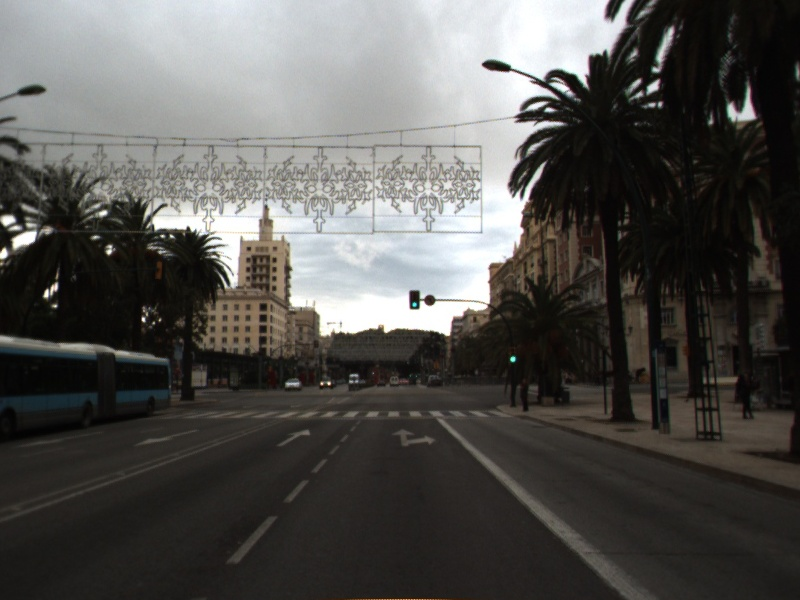STRAIGHT: (273, 427, 312, 449)
STRAIGHT_RIGHT: (389, 426, 439, 449)
